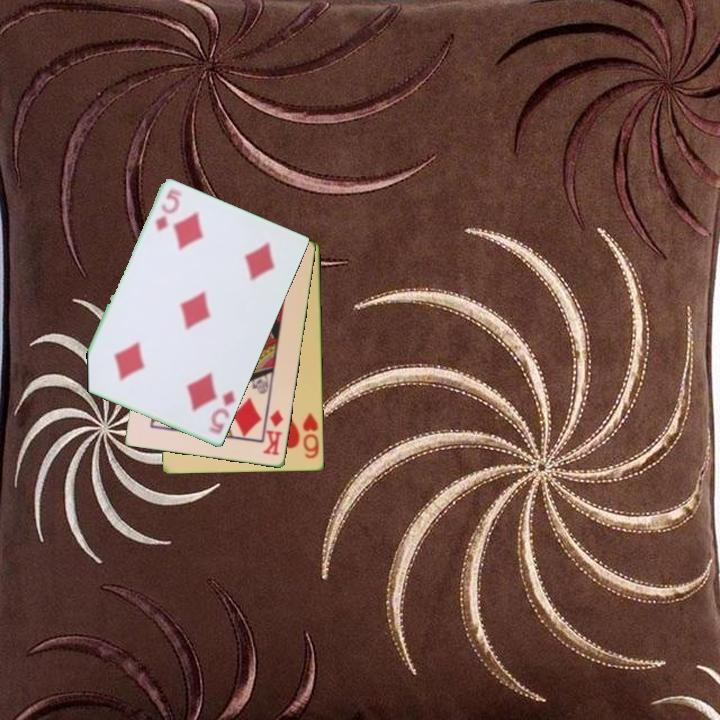5d: (205, 387, 238, 438), (152, 186, 183, 235)
6h: (300, 410, 322, 461)
Kd: (260, 407, 286, 459)
